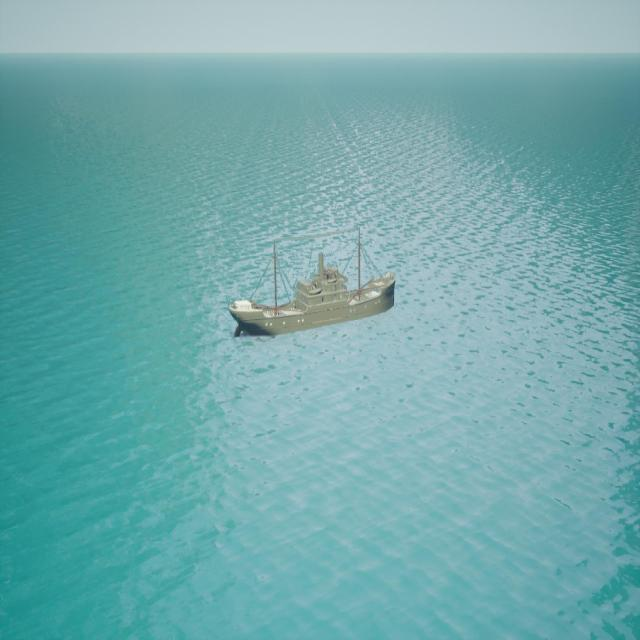fishing ship: (231, 244, 396, 339)
